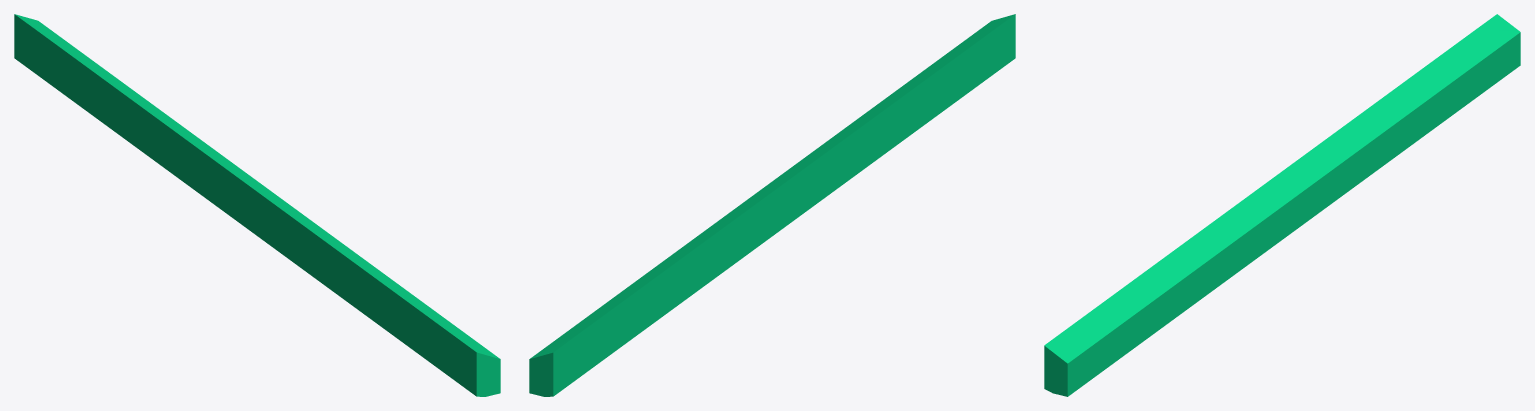
3 views of the same model, side by side, from view 1: azimuth 30°, elevation 25°; view 2: azimuth 150°, elevation 25°; view 3: azimuth 330°, elevation 25° (orthographic). The views are drawn at different scales.
Size of the model in its own units: 0.2221 by 0.4121 by 7.4.
